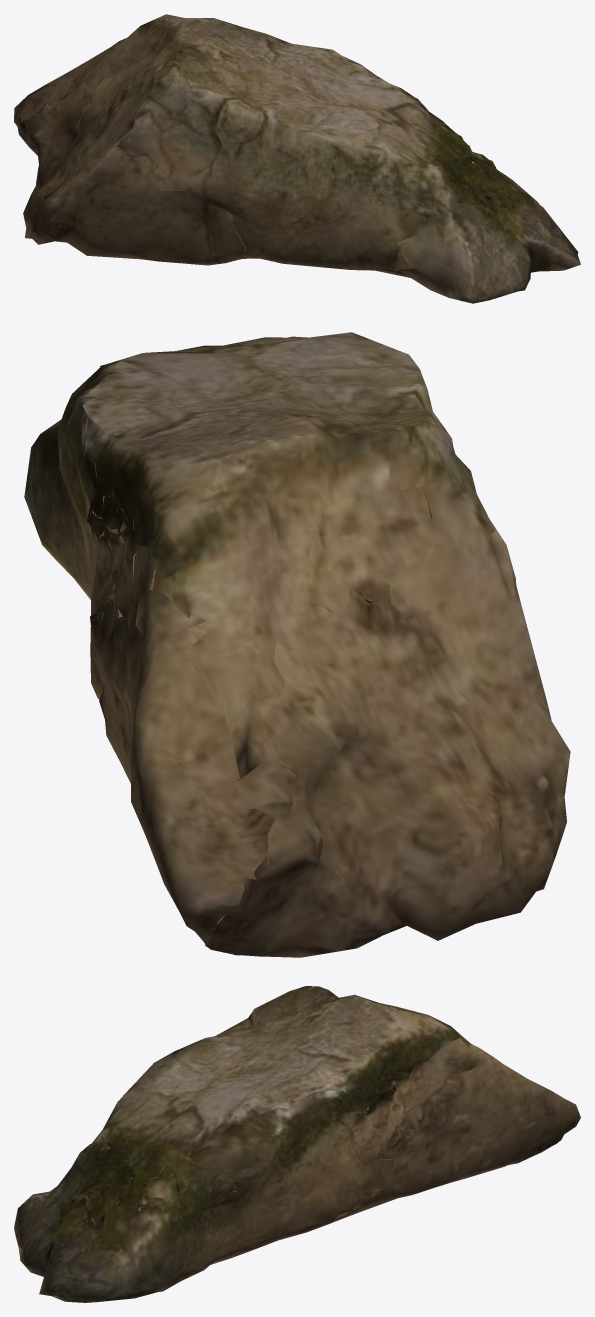
File: rock_moss_set_01_rock02.glb
3 renders of one model, top to bottom at view 1: azimuth 30°, elevation 25°; view 2: azimuth 150°, elevation 25°; view 3: azimuth 270°, elevation 25°, orthographic. The views are drawn at different scales.
Parts seen in each view (by area): view 1: rock_moss_set_01_rock02; view 2: rock_moss_set_01_rock02; view 3: rock_moss_set_01_rock02.
Part boxes in pixels (x1=…): rock_moss_set_01_rock02: x1=14, y1=14, x2=580, y2=303; rock_moss_set_01_rock02: x1=24, y1=332, x2=570, y2=957; rock_moss_set_01_rock02: x1=14, y1=986, x2=580, y2=1302.
Size of the model in its own units: 2.65 by 1.26 by 3.27.
1 material, 1 textured.
